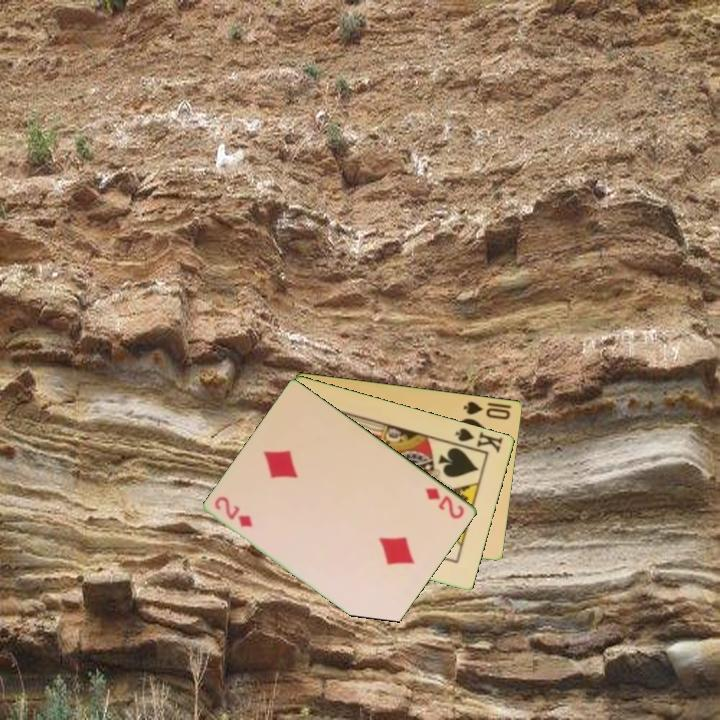10s: (460, 397, 513, 422)
2d: (422, 484, 468, 522), (211, 493, 256, 530)
Ks: (452, 424, 506, 455)
